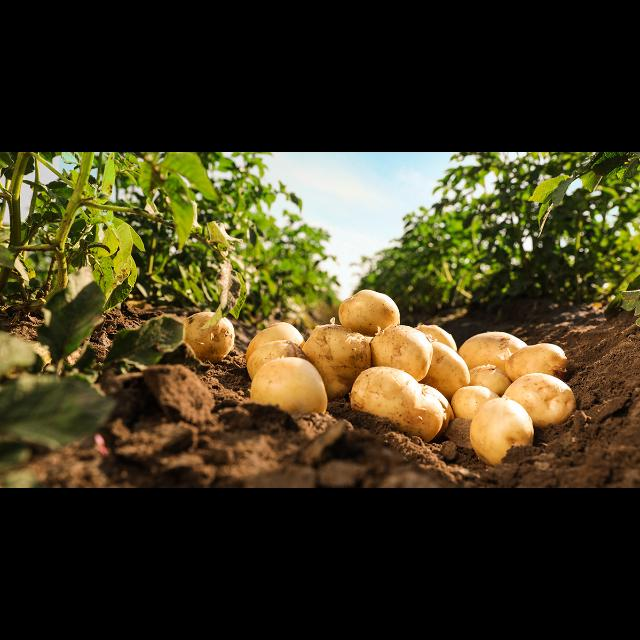Diseased-fungal potato: (173, 312, 234, 366)
Potato: (349, 366, 456, 444), (300, 324, 372, 401), (251, 358, 327, 418), (470, 398, 534, 468), (501, 372, 575, 430), (456, 332, 530, 384), (368, 325, 432, 383), (246, 322, 306, 373), (504, 343, 568, 389), (338, 290, 399, 336), (248, 339, 306, 386), (424, 342, 471, 400), (451, 386, 509, 424), (409, 382, 455, 428), (413, 326, 457, 368), (468, 366, 512, 400)
